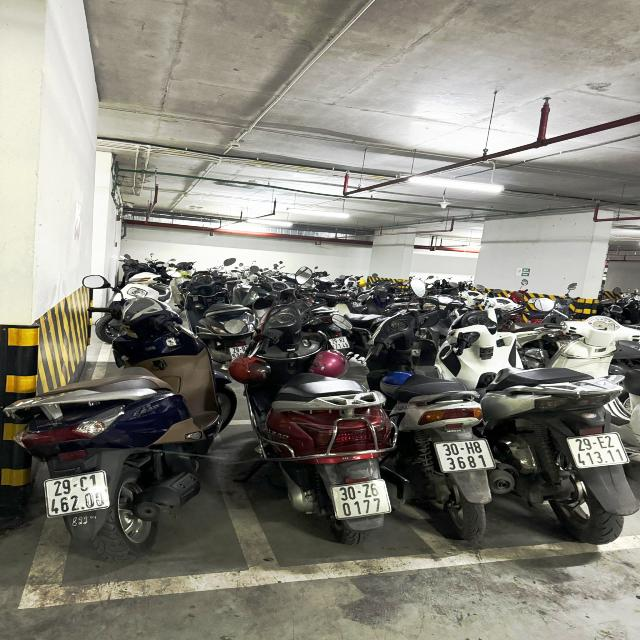license_plate: (46, 472, 110, 518), (329, 478, 394, 520), (571, 434, 632, 470), (436, 440, 499, 474)
